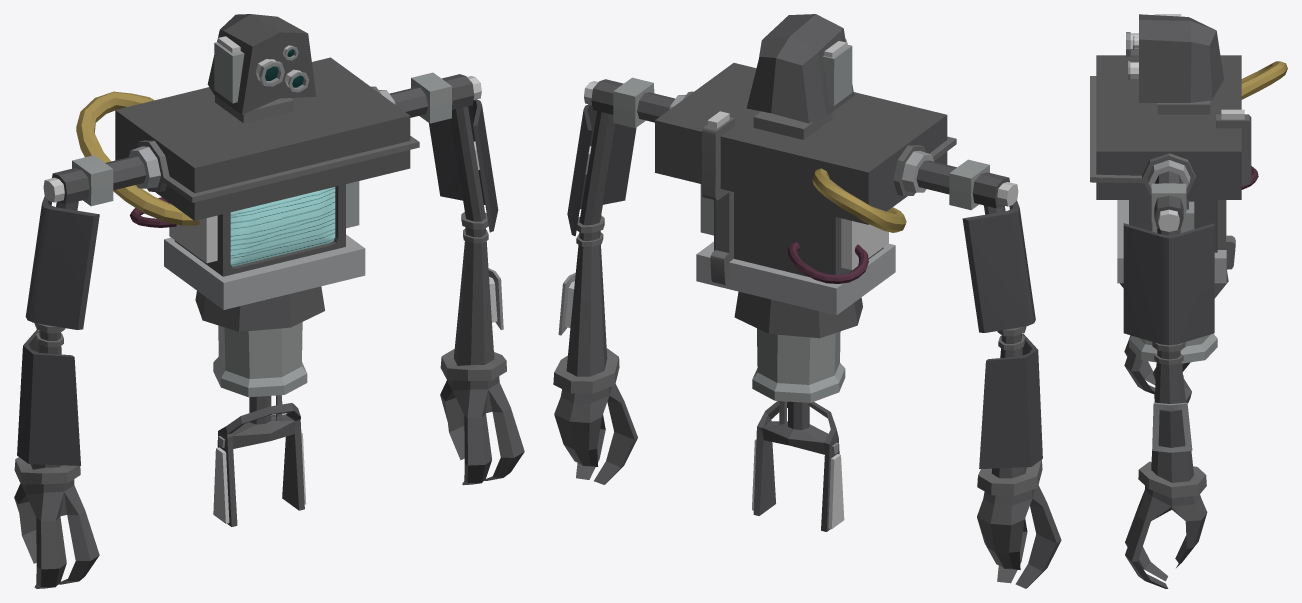
The model's file is robot_fbx.fbx.
3 views of the same model, side by side, from view 1: azimuth 30°, elevation 25°; view 2: azimuth 150°, elevation 25°; view 3: azimuth 270°, elevation 25° (orthographic). The views are drawn at different scales.
Parts seen in each view (by area): view 1: pasted__pCube1; view 2: pasted__pCube1; view 3: pasted__pCube1.
Part boxes in pixels (x1=…): pasted__pCube1: x1=14, y1=14, x2=524, y2=588; pasted__pCube1: x1=553, y1=14, x2=1061, y2=588; pasted__pCube1: x1=1090, y1=14, x2=1287, y2=588.
Bounding box in the file's own units: 255 × 258 × 98.86.
Materials: 11 (1 with a texture image).
